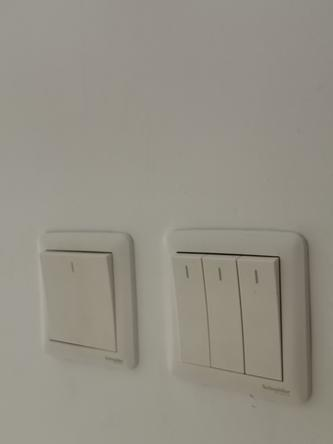switch: (38, 243, 121, 352), (232, 247, 289, 387), (196, 248, 250, 376), (171, 247, 218, 372)
